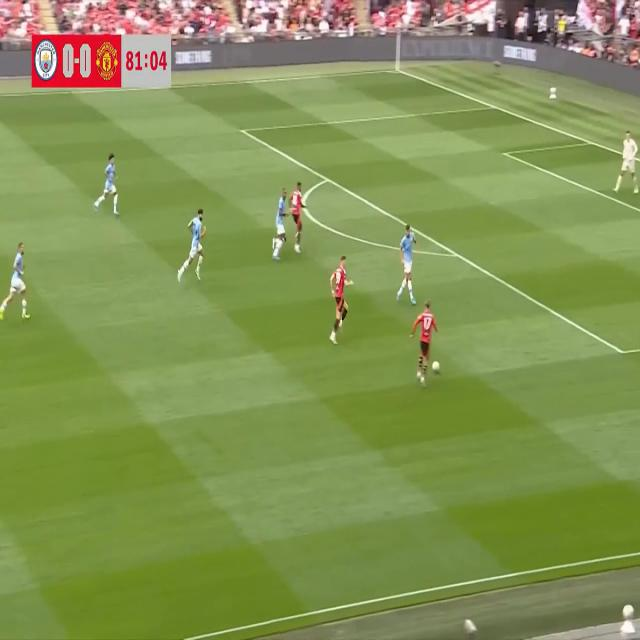ball: (430, 349, 442, 380)
goal_keeper: (610, 128, 640, 205)
players: (177, 200, 211, 289), (1, 232, 34, 323), (93, 140, 127, 228), (329, 247, 357, 348), (411, 299, 437, 397), (396, 218, 421, 308), (268, 182, 294, 265), (291, 170, 310, 261)
